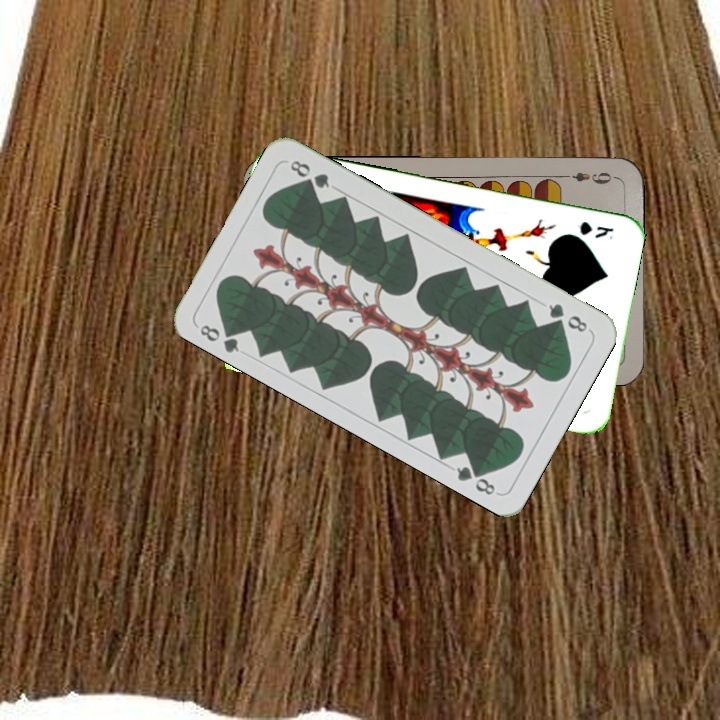E9: (559, 168, 618, 187)
G8: (544, 299, 590, 335), (195, 320, 242, 355)
GK: (575, 217, 616, 242)
